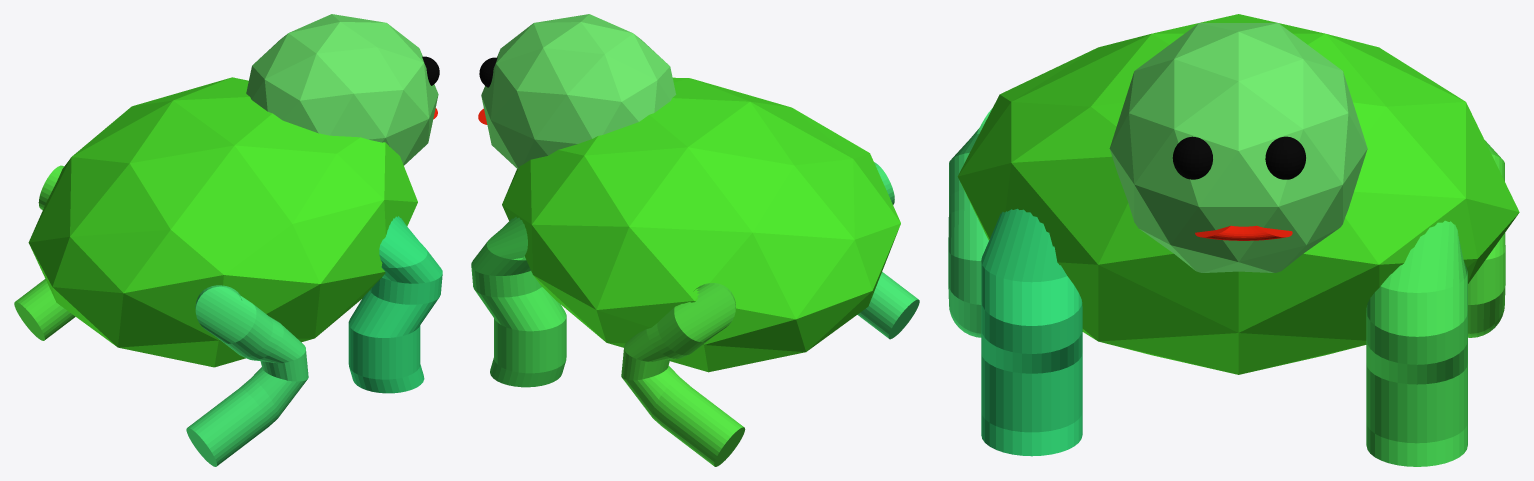
The model's file is frog.fbx.
3 renders of one model, left to right at view 1: azimuth 30°, elevation 25°; view 2: azimuth 150°, elevation 25°; view 3: azimuth 270°, elevation 25°, orthographic. The views are drawn at different scales.
Visible parts, largest first — view 1: Icosphere, Icosphere.001, Cylinder.003, Cylinder.001, Cylinder.002; view 2: Icosphere, Icosphere.001, Cylinder.002, Cylinder, Cylinder.003; view 3: Icosphere, Icosphere.001, Cylinder.001, Cylinder, Cylinder.003, Cylinder.002, Sphere.001, Sphere, Cylinder.004.
Part boxes in pixels (x1=…): Icosphere: x1=28, y1=77, x2=417, y2=367; Icosphere.001: x1=246, y1=14, x2=438, y2=165; Cylinder.003: x1=186, y1=285, x2=308, y2=466; Cylinder.001: x1=348, y1=216, x2=442, y2=393; Cylinder.002: x1=14, y1=165, x2=75, y2=340; Icosphere: x1=502, y1=77, x2=900, y2=372; Icosphere.001: x1=481, y1=14, x2=676, y2=168; Cylinder.002: x1=621, y1=283, x2=745, y2=466; Cylinder: x1=471, y1=217, x2=566, y2=387; Cylinder.003: x1=857, y1=162, x2=919, y2=339; Icosphere: x1=957, y1=14, x2=1519, y2=374; Icosphere.001: x1=1109, y1=23, x2=1367, y2=272; Cylinder.001: x1=981, y1=208, x2=1082, y2=456; Cylinder: x1=1366, y1=220, x2=1467, y2=466; Cylinder.003: x1=948, y1=108, x2=992, y2=337; Cylinder.002: x1=1468, y1=140, x2=1505, y2=337; Sphere.001: x1=1265, y1=136, x2=1305, y2=179; Sphere: x1=1172, y1=136, x2=1212, y2=179; Cylinder.004: x1=1195, y1=225, x2=1292, y2=240.
Bounding box in the file's own units: 73 × 60.14 × 68.04.
